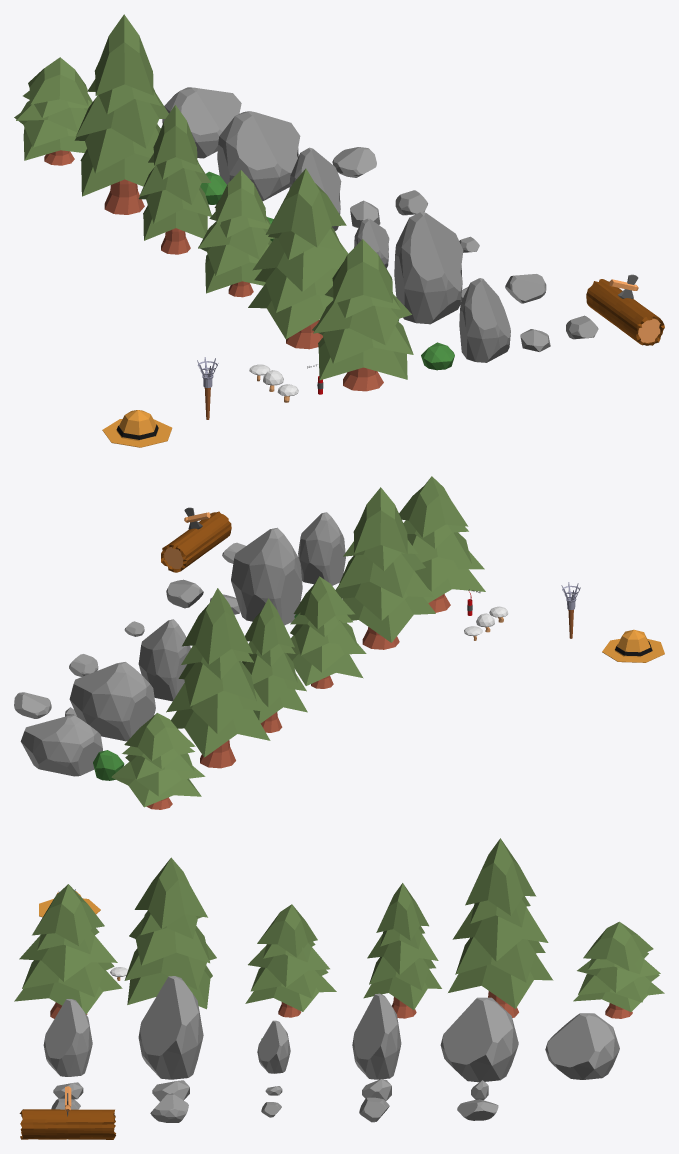
Rendered from all assets.fbx.
3 renders of one model, top to bottom at view 1: azimuth 30°, elevation 25°; view 2: azimuth 150°, elevation 25°; view 3: azimuth 270°, elevation 25°, orthographic. The views are drawn at different scales.
Parts seen in each view (by area): view 1: Cube.027, Cube.009, Cube.004, Circle.052, Icosphere.012, Circle.051, Circle.054, Icosphere.015, Icosphere, Icosphere.016, Cylinder.001, Sphere.001 (+6 smaller); view 2: Cube.027, Cube.009, Cube.004, Circle.051, Circle.054, Icosphere.012, Icosphere.015, Circle.052, Icosphere.016, Icosphere.014, Icosphere, Cylinder.001 (+5 smaller); view 3: Cube.027, Cube.009, Cube.004, Circle.052, Circle.051, Circle.054, Icosphere.012, Icosphere.015, Icosphere.016, Icosphere.014, Cylinder.001, Icosphere (+6 smaller).
Boxes of the visible parts, x1,y1,x2,y2 form: Cube.027: (74, 14, 168, 214); Cube.009: (248, 168, 348, 349); Cube.004: (312, 239, 413, 391); Circle.052: (138, 105, 211, 254); Icosphere.012: (394, 211, 463, 324); Circle.051: (198, 170, 274, 297); Circle.054: (14, 57, 92, 165); Icosphere.015: (217, 111, 300, 201); Icosphere: (459, 278, 510, 362); Icosphere.016: (162, 87, 241, 158); Cylinder.001: (586, 279, 664, 345); Sphere.001: (102, 410, 172, 447); Cube.027: (166, 588, 270, 768); Cube.009: (335, 487, 435, 649); Cube.004: (399, 476, 485, 612); Circle.051: (286, 576, 366, 688); Circle.054: (111, 713, 205, 809); Icosphere.012: (231, 527, 302, 625); Icosphere.015: (69, 662, 155, 741); Circle.052: (242, 598, 307, 732); Icosphere.016: (20, 715, 102, 776); Icosphere.014: (138, 619, 190, 701); Icosphere: (298, 512, 345, 585); Cylinder.001: (161, 511, 231, 572); Cube.027: (448, 838, 553, 1017); Cube.009: (124, 857, 216, 1009); Cube.004: (14, 884, 122, 1018); Circle.052: (363, 883, 441, 1018); Circle.051: (245, 904, 336, 1017); Circle.054: (573, 921, 664, 1018); Icosphere.012: (138, 976, 203, 1079); Icosphere.015: (440, 997, 518, 1082); Icosphere.016: (545, 1013, 619, 1079); Icosphere.014: (352, 993, 401, 1079); Cylinder.001: (19, 1109, 115, 1139); Icosphere: (43, 999, 92, 1076).
Bounding box in the file's own units: 1082 × 399 × 1265.
